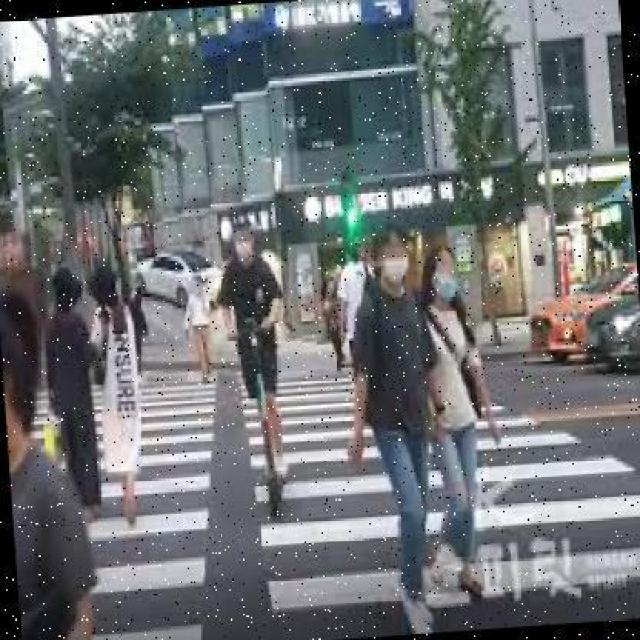Person: (341, 217, 456, 634), (417, 237, 508, 600), (86, 258, 149, 524), (44, 266, 108, 517), (180, 273, 215, 385)
